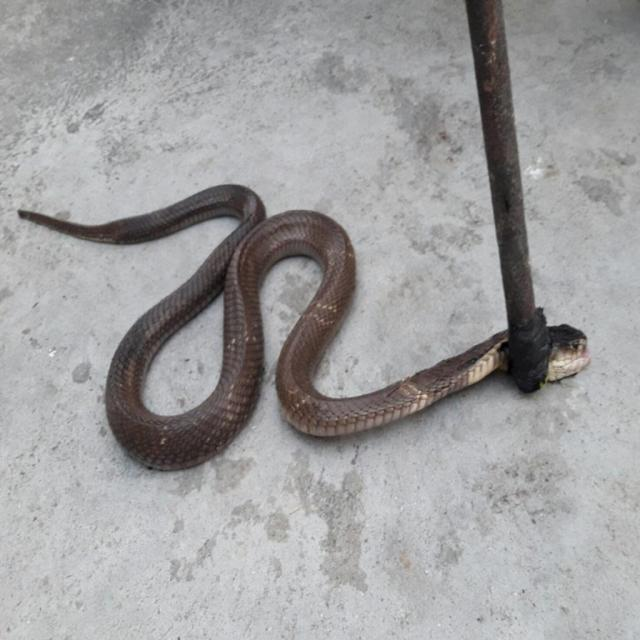Venomous: (461, 296, 595, 382)
